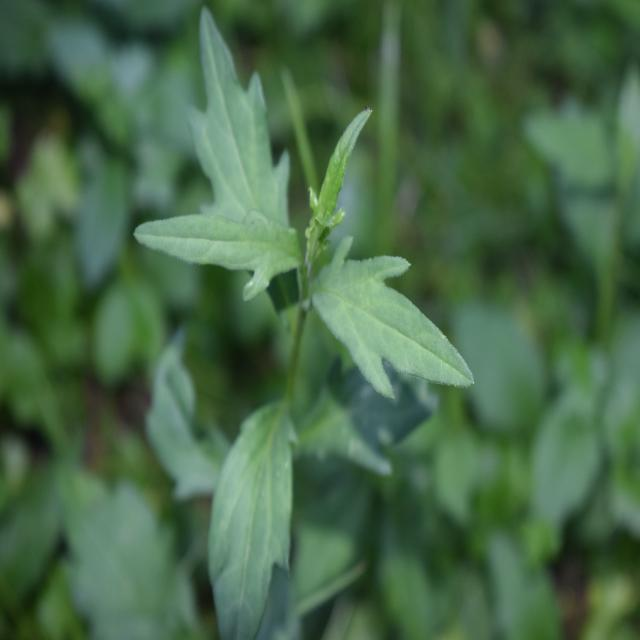Indian aster: (150, 64, 449, 626)
